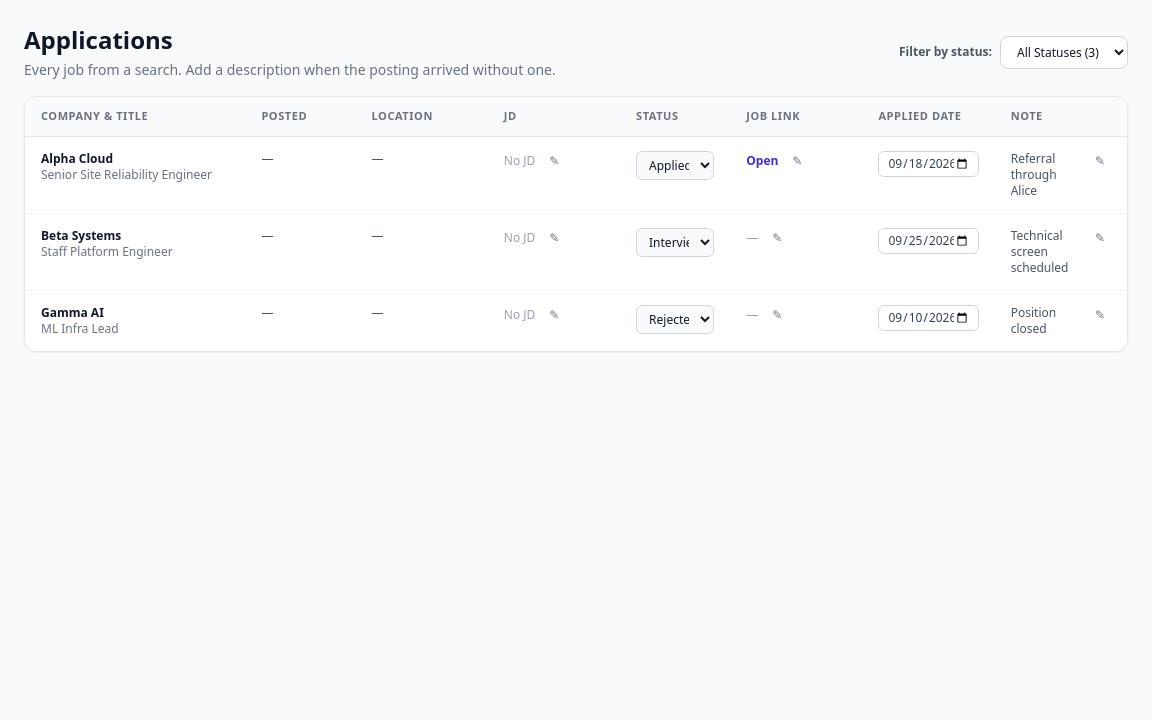
Test: ApplicationsPage (Phase 5c-2a) › reverts status and displays backend error on 409 invalid transition conflict
The width and height of the screenshot is (1152, 720).
Expected: the text "Gamma AI" is shown, [41,304,104,321]
Select "Applied" in the dropdown named "Change status for Gamma AI" at (675,319), box [636,305,714,334]
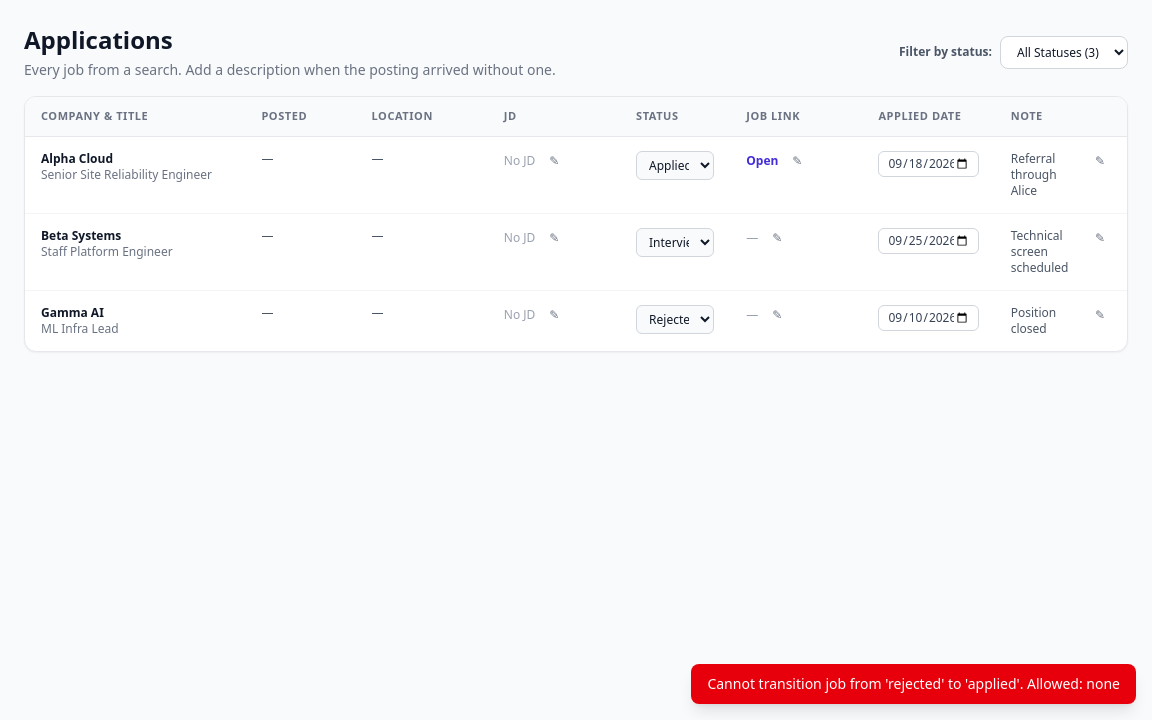
Expected: the text "Cannot transition job from 'rejected' to 'applied'. Allowed: none" is shown, [707,674,1120,694]
